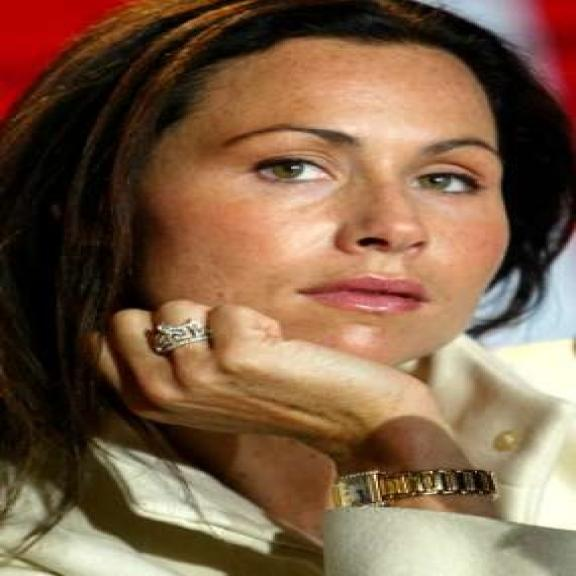face: (116, 34, 517, 385)
